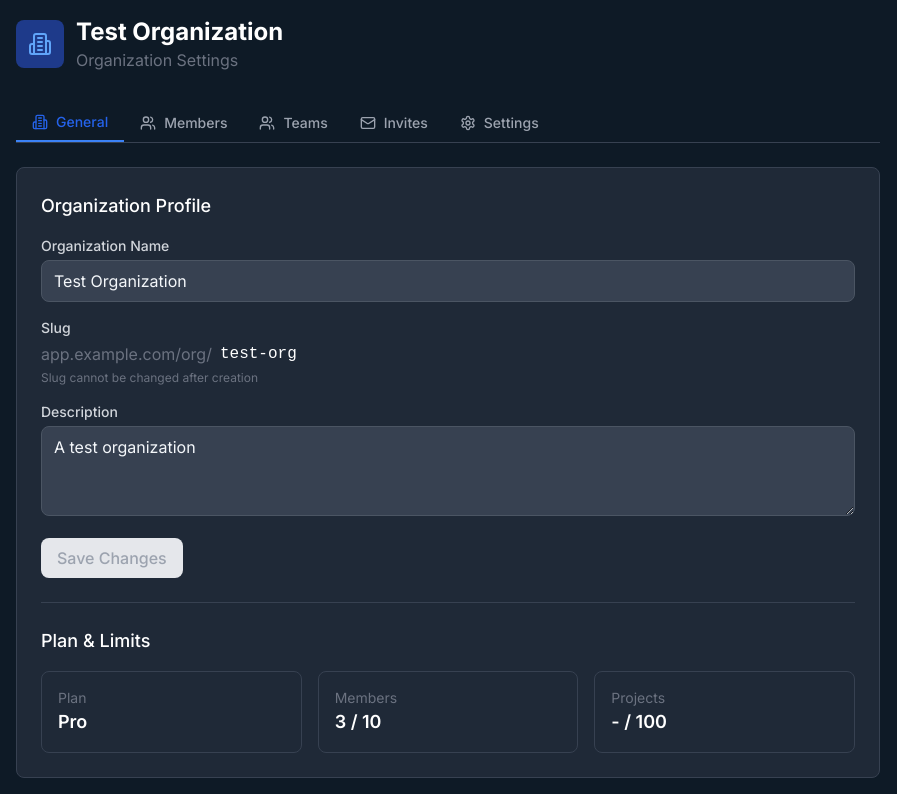
Test: OrganizationSettingsPage › Admin Role Check › shows admin features when user is admin
The width and height of the screenshot is (897, 794).
Check: the heading "Test Organization" is shown, box [76,16,283,48]
# Switch to members tab
Click the button "Members": {"x": 184, "y": 123} [124,104,244,142]
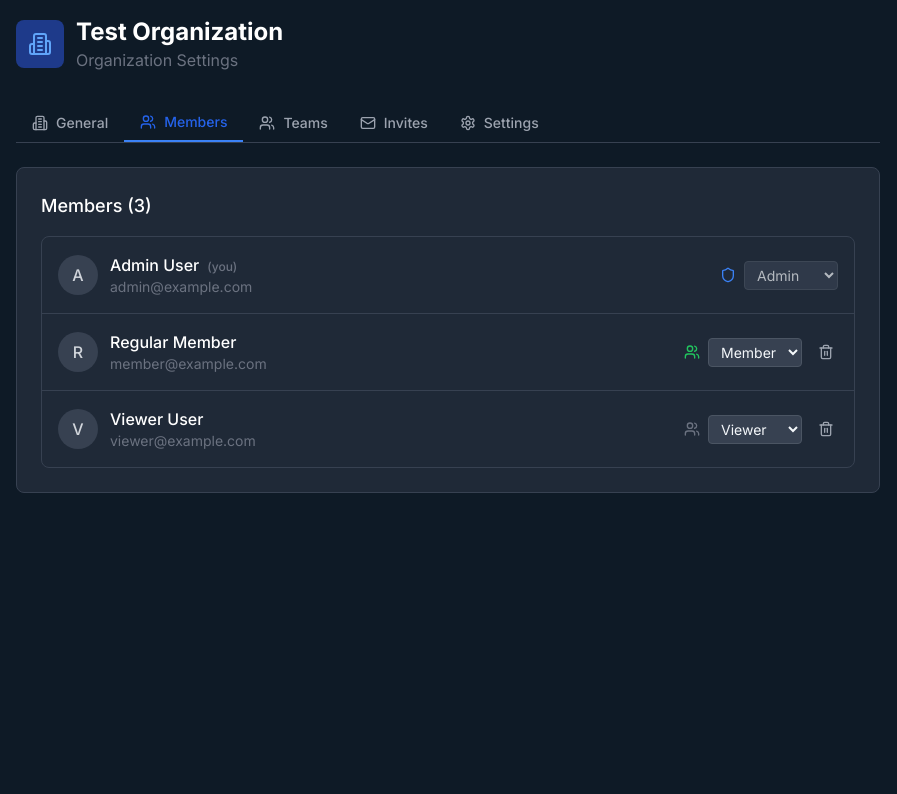
Check: the dropdown in the row of "admin@example.com" is shown, box [744,260,838,290]
